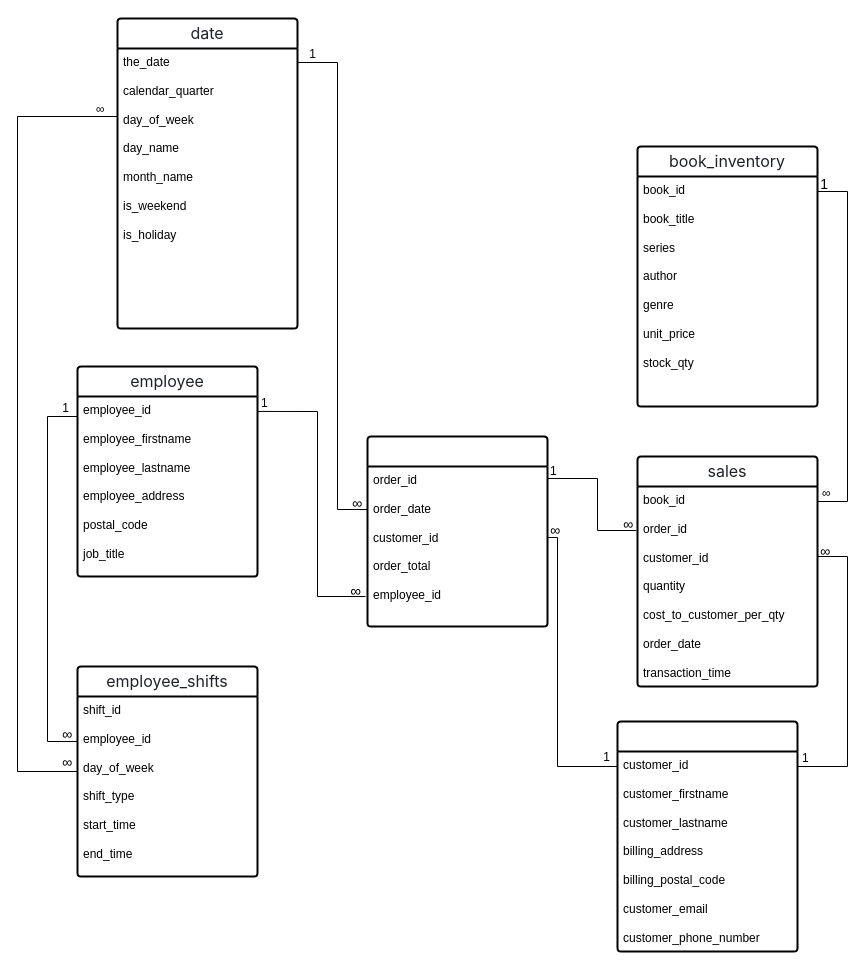
The diagram is 866 pixels wide and 969 high, and some of its shapes have lost their labels. The box of each missing label's shape, as (x1, y1, x2, y2) in pixels:
customers: (616, 720, 798, 952)
orders: (366, 435, 548, 627)
